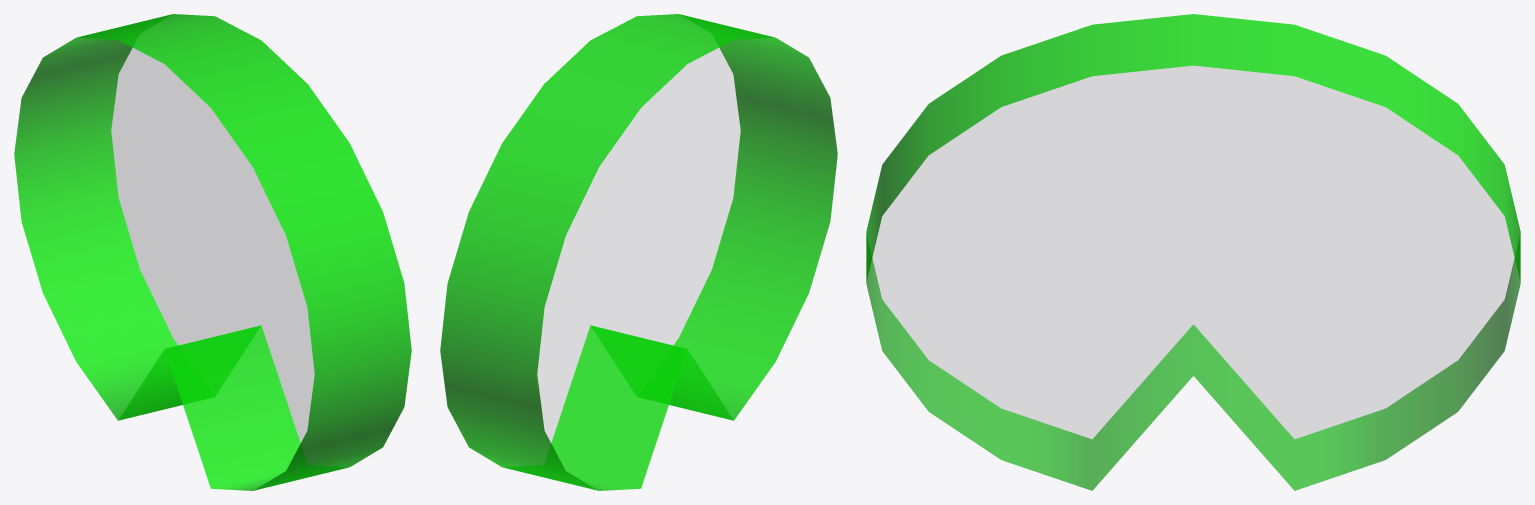
File: Plongé.fbx
3 views of the same model, side by side, from view 1: azimuth 30°, elevation 25°; view 2: azimuth 150°, elevation 25°; view 3: azimuth 270°, elevation 25° (orthographic). The views are drawn at different scales.
Parts seen in each view (by area): view 1: Plongé; view 2: Plongé; view 3: Plongé.
Boxes of the visible parts, <box> form: Plongé: <box>14,14,411,490</box>; Plongé: <box>440,14,837,490</box>; Plongé: <box>866,14,1520,490</box>.
Bounding box in the file's own units: 12 × 46.16 × 64.36.
